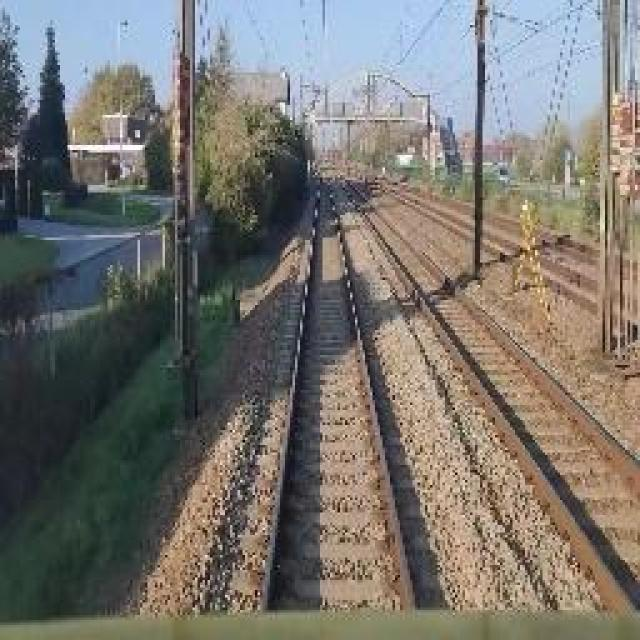rail: (322, 165, 640, 615), (223, 167, 453, 612), (368, 176, 640, 356)
